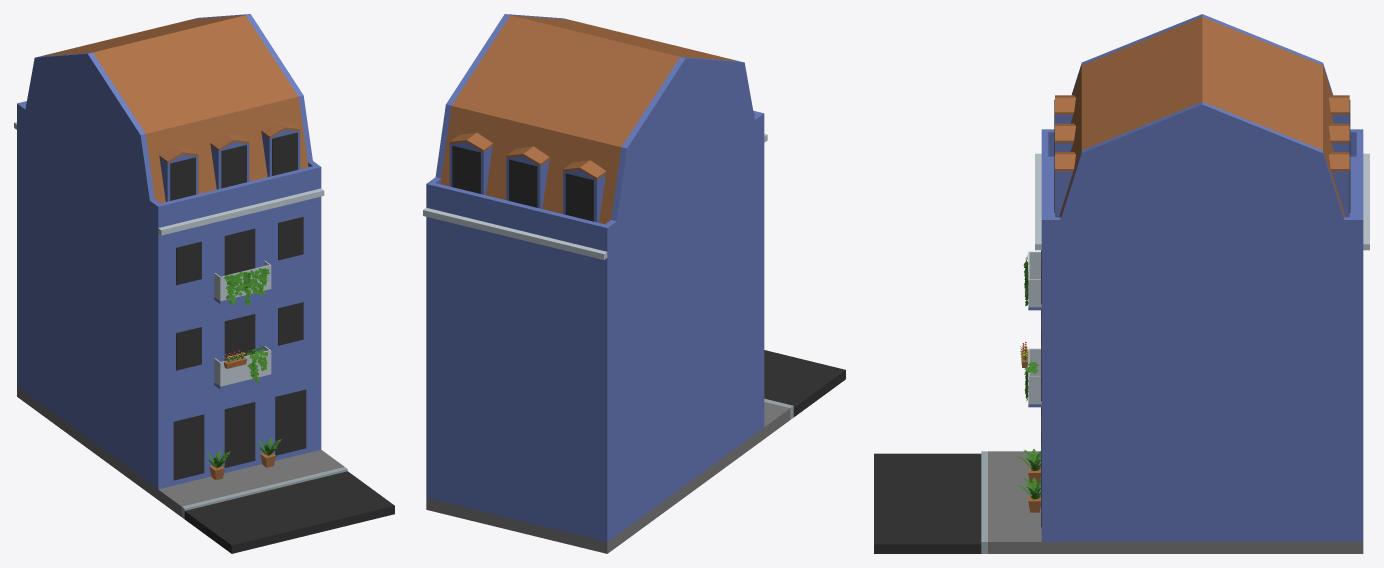
The model's file is Ornek 3D.fbx.
The picture shows the model from 3 angles, left to right: view 1: azimuth 30°, elevation 25°; view 2: azimuth 150°, elevation 25°; view 3: azimuth 270°, elevation 25°; orthographic projection. The views are drawn at different scales.
Visible parts, largest first — view 1: building, roof, baseplate, roof.001, baseplate.001, door.001, door, door.002, balcony_door.001, balcony_door, balcony, foliage (+6 smaller); view 2: building, roof.001, roof, baseplate.001, baseplate; view 3: building, roof, roof.001, baseplate, baseplate.001, balcony.001, balcony.
Part boxes in pixels (box(x1,y1,x2,y2)): building: box(17, 130, 321, 489); roof: box(87, 14, 324, 235); baseplate: box(184, 471, 394, 553); roof.001: box(14, 14, 249, 181); baseplate.001: box(17, 386, 347, 518); door.001: box(173, 414, 204, 480); door: box(275, 389, 306, 455); door.002: box(224, 402, 255, 467); balcony_door.001: box(224, 228, 255, 275); balcony_door: box(224, 314, 255, 360); balcony: box(214, 346, 271, 389); foliage: box(224, 268, 269, 305); building: box(426, 143, 764, 541); roof.001: box(423, 14, 685, 259); roof: box(505, 14, 767, 199); baseplate.001: box(426, 398, 793, 553); baseplate: box(764, 350, 845, 417); building: box(1041, 250, 1363, 541); roof: box(1035, 14, 1202, 250); roof.001: box(1202, 14, 1369, 250); baseplate: box(874, 453, 981, 553); baseplate.001: box(981, 451, 1363, 553); balcony.001: box(1028, 251, 1041, 310); balcony: box(1028, 348, 1041, 407).
Bounding box in the file's own units: 8 × 18.5 × 18.5.
